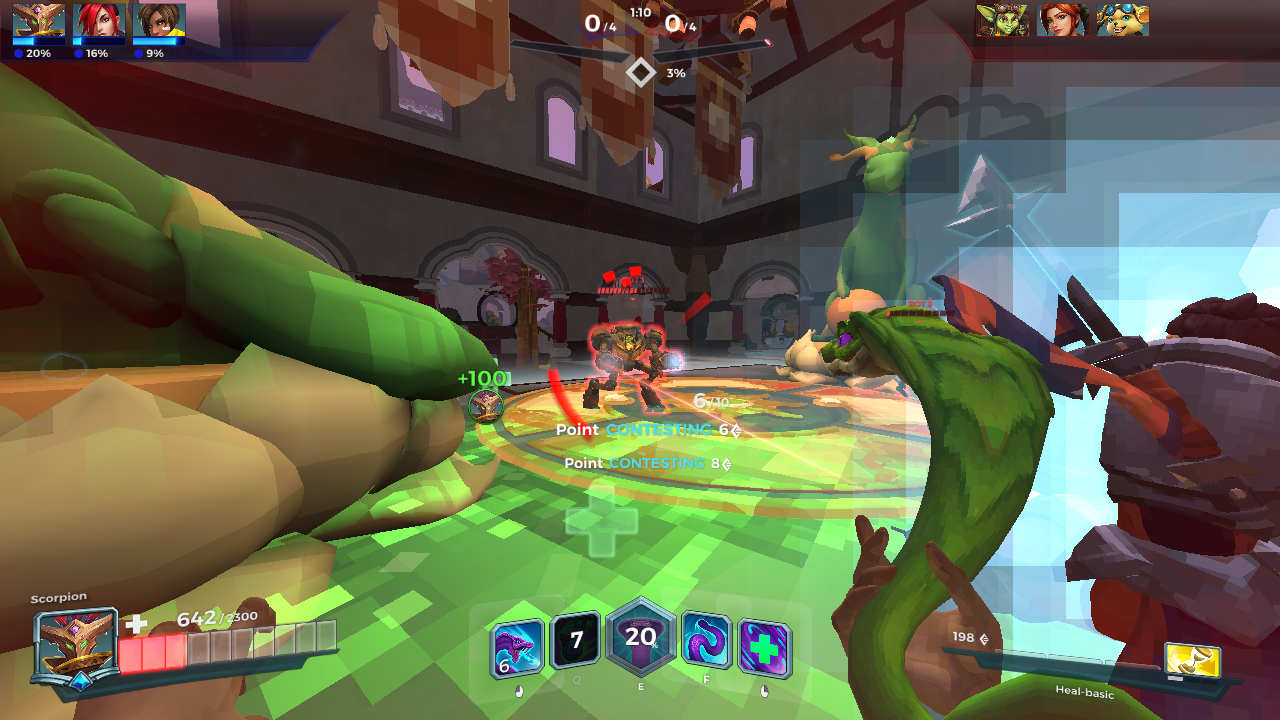model: (575, 316, 675, 410)
